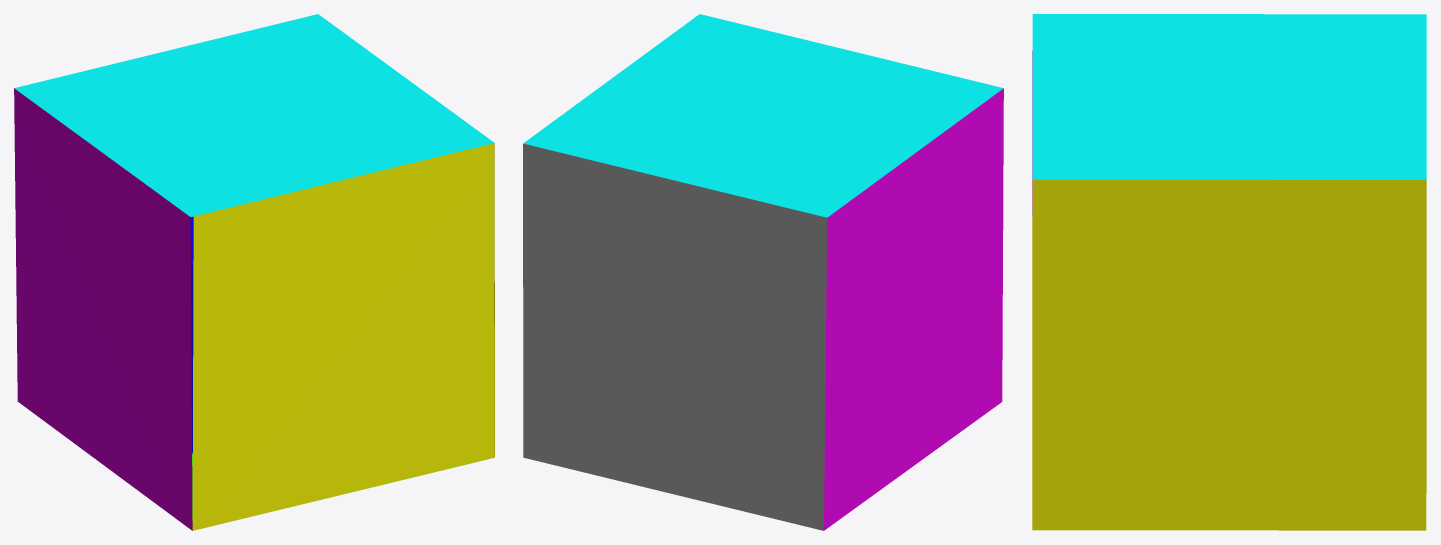
Rendered from cornell-box-closed.obj.
The picture shows the model from 3 angles, left to right: view 1: azimuth 30°, elevation 25°; view 2: azimuth 150°, elevation 25°; view 3: azimuth 270°, elevation 25°; orthographic projection. The views are drawn at different scales.
Parts seen in each view (by area): view 1: front_wall, left_wall, ceiling, tall_box; view 2: back_wall, left_wall, ceiling; view 3: right_wall, ceiling.
Part boxes in pixels (x1=…): front_wall: x1=192, y1=143, x2=494, y2=530; left_wall: x1=14, y1=88, x2=192, y2=530; ceiling: x1=14, y1=14, x2=494, y2=216; tall_box: x1=190, y1=216, x2=193, y2=453; back_wall: x1=523, y1=143, x2=827, y2=530; left_wall: x1=824, y1=88, x2=1003, y2=530; ceiling: x1=523, y1=14, x2=1003, y2=217; right_wall: x1=1032, y1=179, x2=1426, y2=530; ceiling: x1=1032, y1=14, x2=1426, y2=179.
Bounding box in the file's own units: 5.56 × 5.5 × 5.6.
